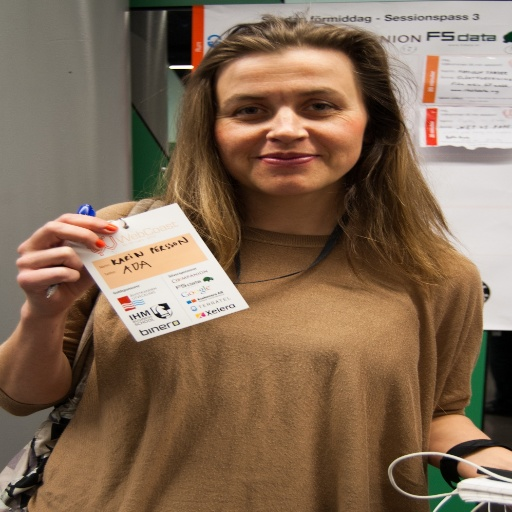hand: (7, 228, 86, 408)
